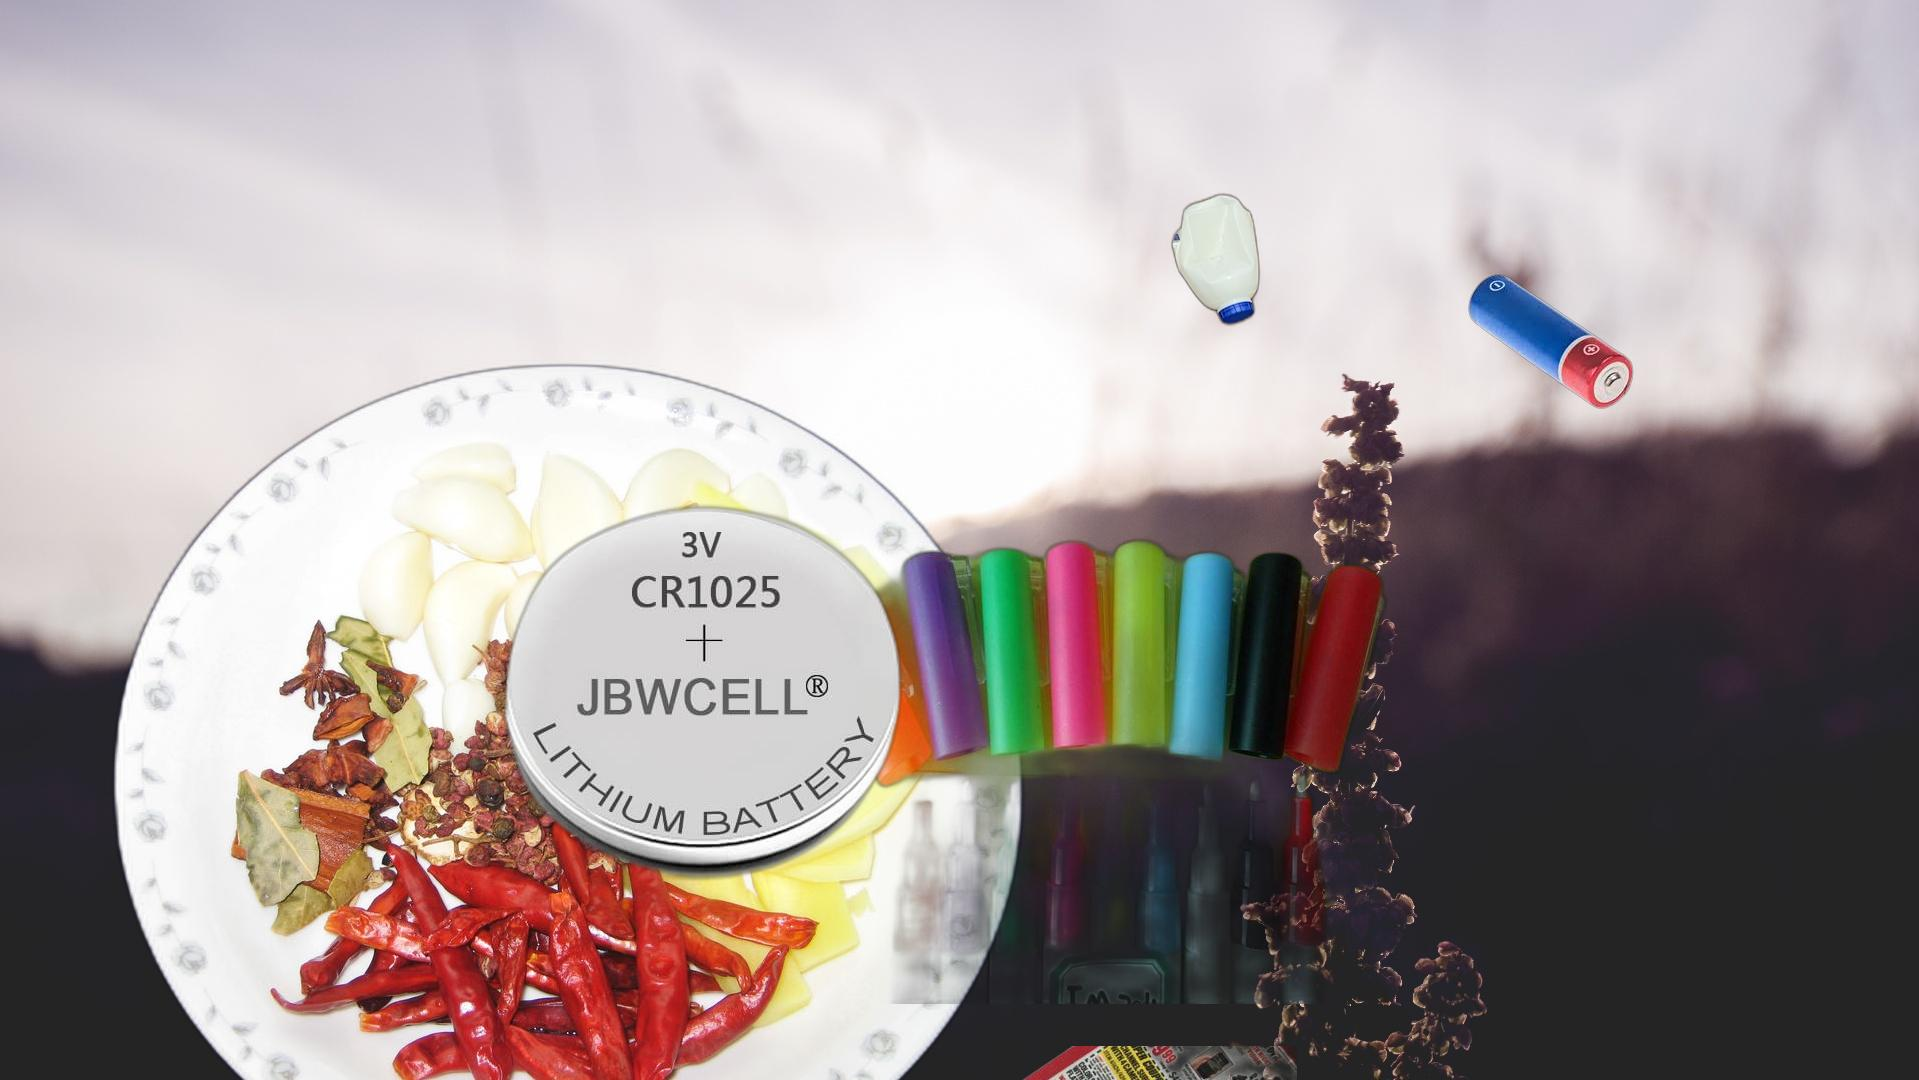battery: (497, 500, 907, 886), (1466, 272, 1636, 411)
biological: (101, 357, 1033, 1080)
paper: (796, 1046, 1297, 1080)
penholder: (804, 535, 1404, 1004)
plastic-bottles: (1166, 189, 1264, 330)
